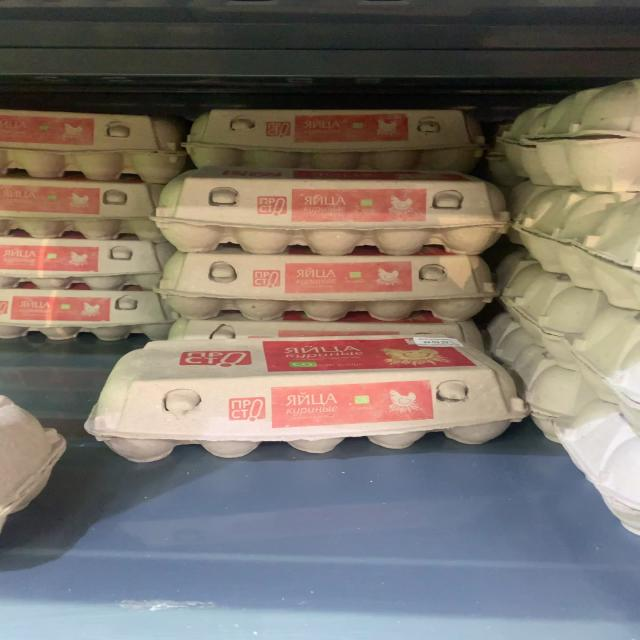egg box: (87, 337, 534, 464), (144, 176, 514, 255), (156, 245, 492, 328), (181, 108, 490, 176)
